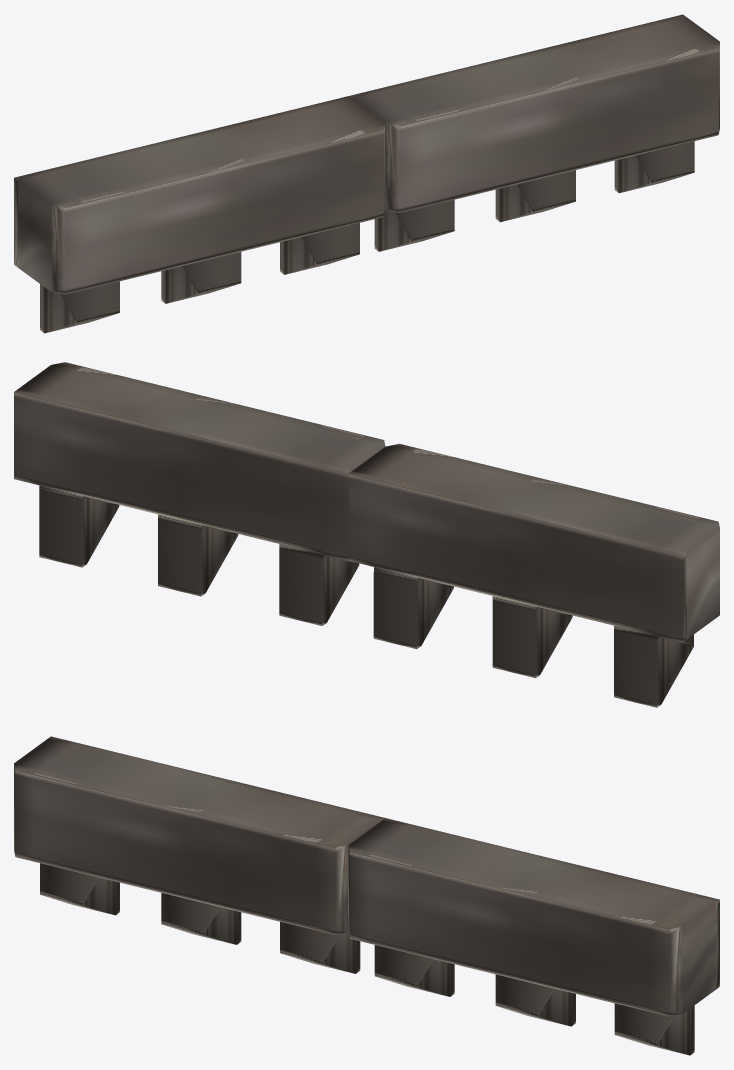
File: rampart3_double_offset.glb
3 views of the same model, one above another, from view 1: azimuth 30°, elevation 25°; view 2: azimuth 150°, elevation 25°; view 3: azimuth 330°, elevation 25° (orthographic).
Visible parts, largest first — view 1: rampart3_double_offset; view 2: rampart3_double_offset; view 3: rampart3_double_offset.
Boxes of the visible parts, x1,y1,x2,y2 form: rampart3_double_offset: [14, 14, 719, 333]; rampart3_double_offset: [14, 362, 719, 707]; rampart3_double_offset: [14, 736, 719, 1055].
Bounding box in the file's own units: 8 × 1.82 × 0.8986.
1 material, 1 textured.
